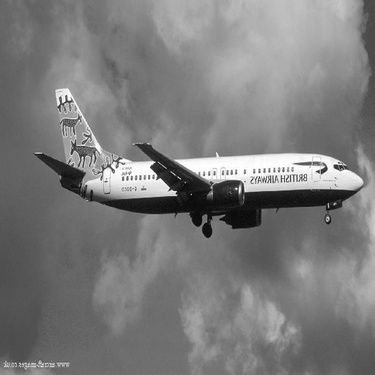airplane: (14, 62, 366, 246)
